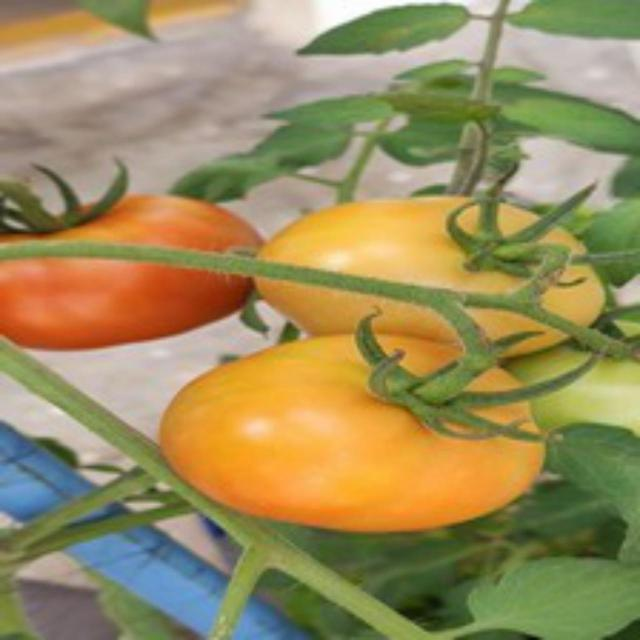tomato: (148, 328, 561, 542)
